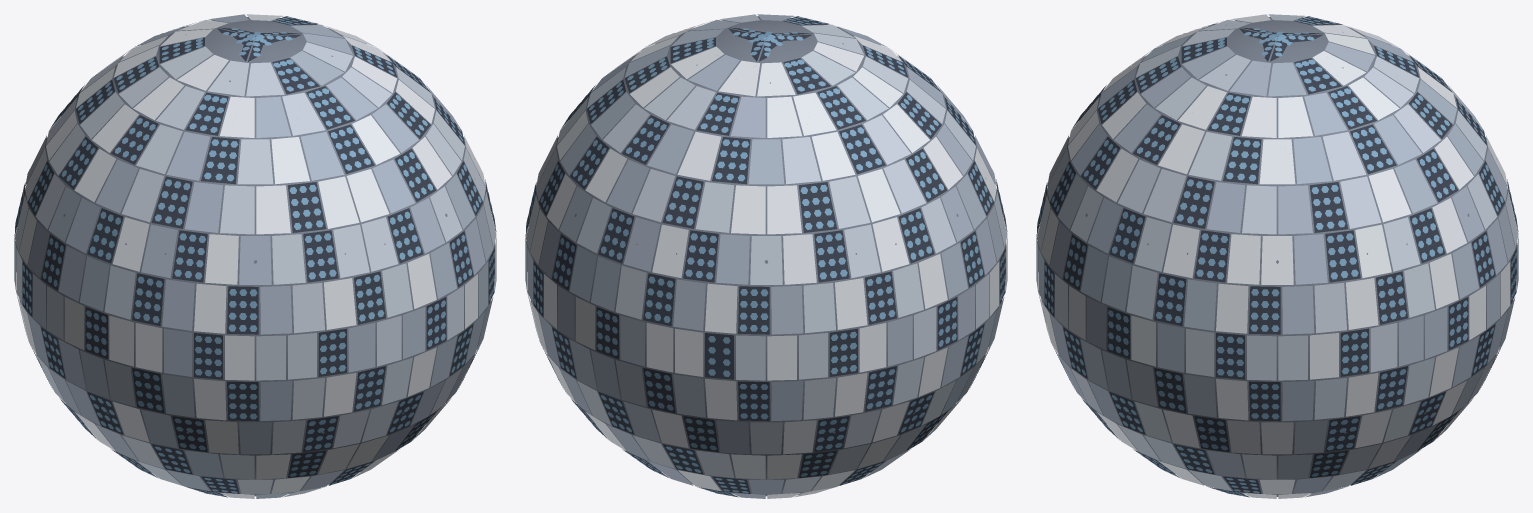
File: ajisai.glb
3 views of the same model, side by side, from view 1: azimuth 30°, elevation 25°; view 2: azimuth 150°, elevation 25°; view 3: azimuth 270°, elevation 25° (orthographic).
Parts seen in each view (by area): view 1: solar-panel, body; view 2: solar-panel, body; view 3: solar-panel, body.
Boxes of the visible parts, x1,y1,x2,y2 form: solar-panel: (14, 14, 496, 498); body: (14, 16, 496, 497); solar-panel: (525, 14, 1007, 498); body: (525, 16, 1007, 497); solar-panel: (1036, 14, 1518, 498); body: (1036, 16, 1518, 497).
Bounding box in the file's own units: 2.15 × 2.17 × 2.15.
